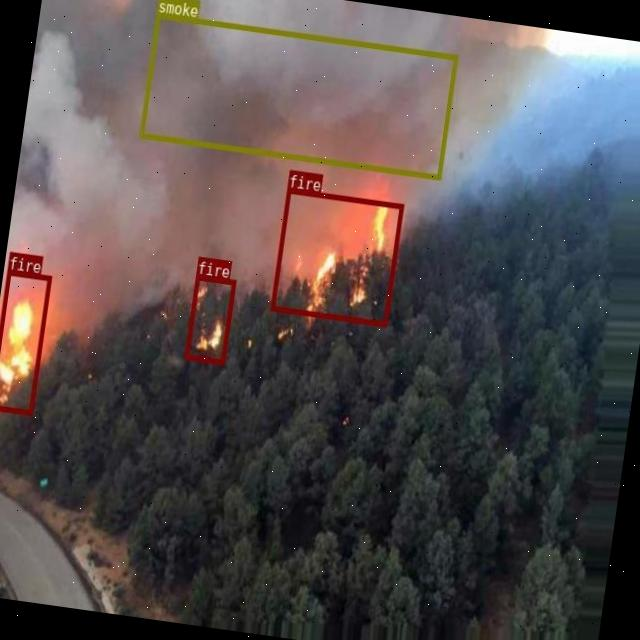fire: (270, 187, 403, 325), (0, 270, 51, 415), (184, 274, 236, 363)
smoke: (140, 13, 458, 180)
